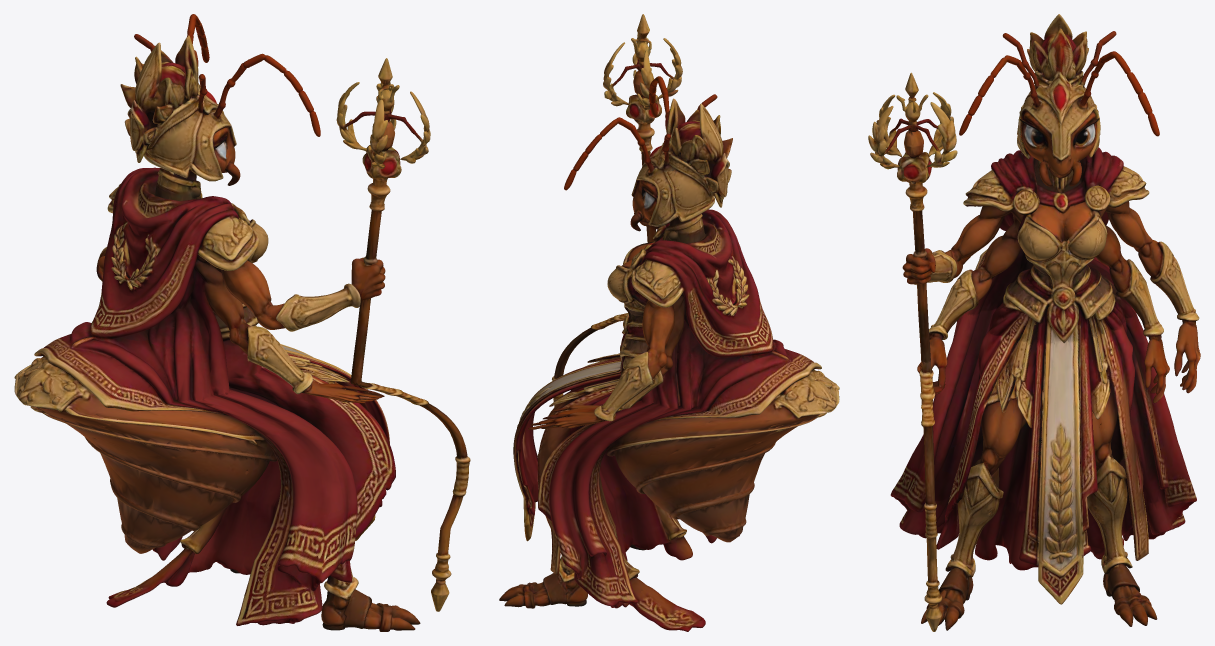
The model's file is ameisenkoenigin.glb.
The picture shows the model from 3 angles, left to right: view 1: azimuth 30°, elevation 25°; view 2: azimuth 150°, elevation 25°; view 3: azimuth 270°, elevation 25°; orthographic projection. The views are drawn at different scales.
Parts seen in each view (by area): view 1: node_829f3283-8135-4959-af35-5a2a925ba8d4; view 2: node_829f3283-8135-4959-af35-5a2a925ba8d4; view 3: node_829f3283-8135-4959-af35-5a2a925ba8d4.
Boxes of the visible parts, x1,y1,x2,y2 form: node_829f3283-8135-4959-af35-5a2a925ba8d4: (14,14,470,631); node_829f3283-8135-4959-af35-5a2a925ba8d4: (499,14,839,631); node_829f3283-8135-4959-af35-5a2a925ba8d4: (868,14,1200,631).
Size of the model in its own units: 0.6906 by 1 by 0.5605.
1 material, 1 textured.
